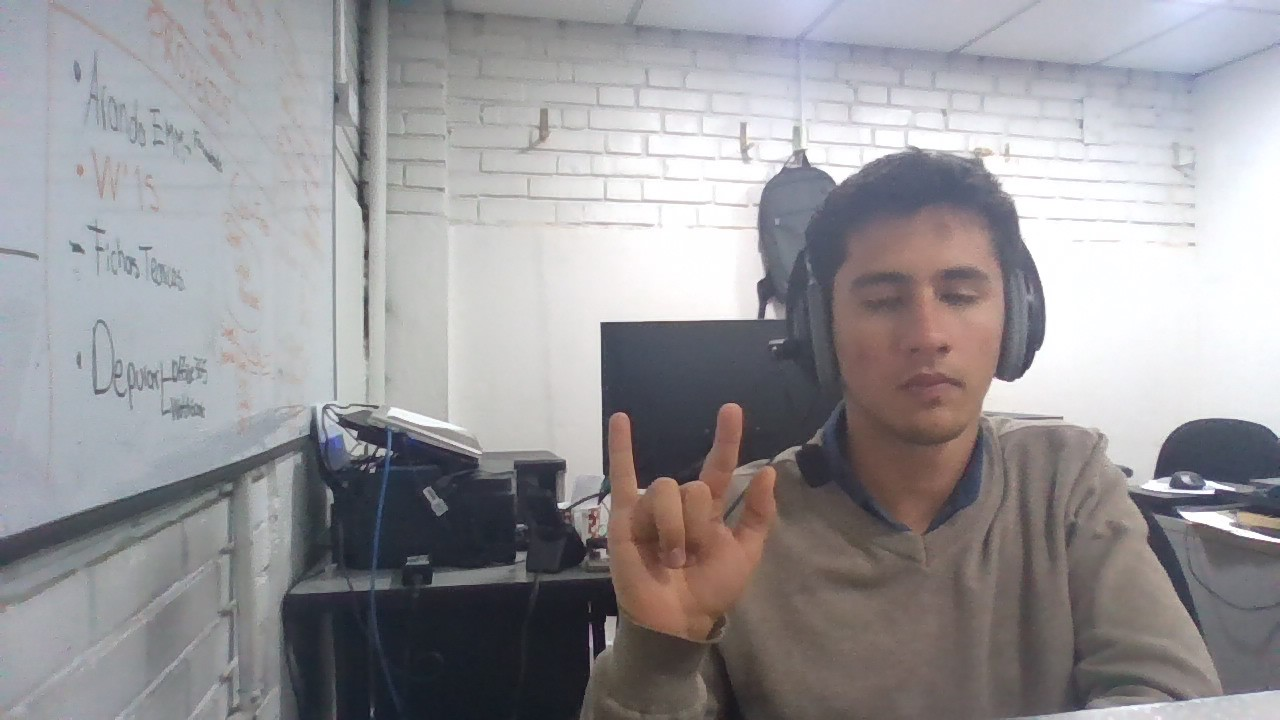te_amo: (596, 386, 780, 645)
